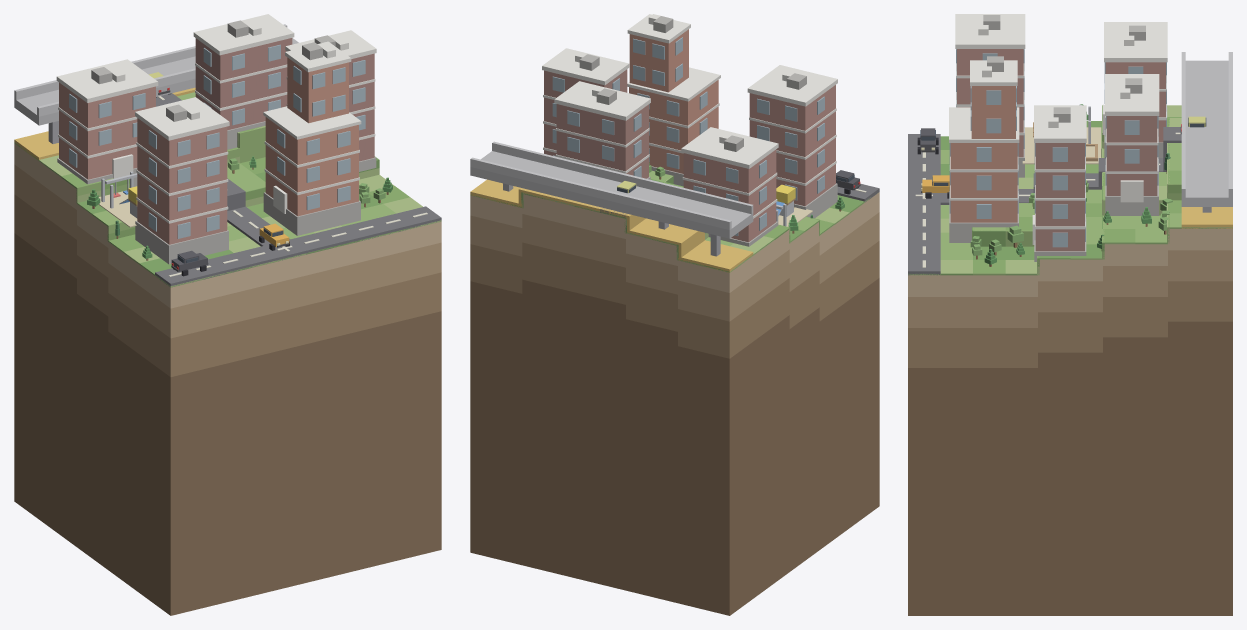
The model's file is block_6_base.glb.
3 renders of one model, left to right at view 1: azimuth 30°, elevation 25°; view 2: azimuth 150°, elevation 25°; view 3: azimuth 270°, elevation 25°, orthographic. The views are drawn at different scales.
Parts seen in each view (by area): view 1: Patch_UpperLeft_b01, Res_UL_04, Res_UL_01, Res_UL_00, Res_UL_02, Green_UpperLeft_j4_b01, Roads_UpperLeft_b01, Bridge_UpperLeft_b01, Res_UL_03, Playground_UpperLeft, Paver_UpperLeft_b01, ULCar_005; view 2: Patch_UpperLeft_b01, Bridge_UpperLeft_b01, Res_UL_01, Res_UL_04, Res_UL_02, Res_UL_00, Paver_UpperLeft_b01, Res_UL_03, Green_UpperLeft_j4_b01, Playground_UpperLeft; view 3: Patch_UpperLeft_b01, Res_UL_04, Green_UpperLeft_j4_b01, Res_UL_03, Res_UL_02, Bridge_UpperLeft_b01, Roads_UpperLeft_b01, Res_UL_01, Res_UL_00, Paver_UpperLeft_b01, Playground_UpperLeft, ULCar_022 (+1 smaller).
Part boxes in pixels (left/top/right/bottom): Patch_UpperLeft_b01: left=14, top=143, right=441, bottom=615; Res_UL_04: left=263, top=41, right=361, bottom=235; Res_UL_01: left=135, top=97, right=229, bottom=264; Res_UL_00: left=56, top=59, right=158, bottom=186; Res_UL_02: left=193, top=14, right=294, bottom=149; Green_UpperLeft_j4_b01: left=14, top=92, right=441, bottom=287; Roads_UpperLeft_b01: left=155, top=93, right=441, bottom=286; Bridge_UpperLeft_b01: left=14, top=24, right=298, bottom=143; Res_UL_03: left=285, top=30, right=376, bottom=171; Playground_UpperLeft: left=98, top=171, right=137, bottom=227; Paver_UpperLeft_b01: left=14, top=87, right=195, bottom=160; ULCar_005: left=171, top=250, right=208, bottom=276; Patch_UpperLeft_b01: left=470, top=192, right=879, bottom=615; Bridge_UpperLeft_b01: left=470, top=141, right=753, bottom=256; Res_UL_01: left=747, top=65, right=837, bottom=218; Res_UL_04: left=627, top=14, right=720, bottom=186; Res_UL_02: left=554, top=81, right=650, bottom=179; Res_UL_00: left=681, top=127, right=778, bottom=246; Paver_UpperLeft_b01: left=470, top=179, right=753, bottom=272; Res_UL_03: left=542, top=48, right=629, bottom=156; Green_UpperLeft_j4_b01: left=470, top=170, right=877, bottom=272; Playground_UpperLeft: left=776, top=184, right=812, bottom=226; Patch_UpperLeft_b01: left=908, top=228, right=1232, bottom=615; Res_UL_04: left=949, top=56, right=1019, bottom=242; Green_UpperLeft_j4_b01: left=908, top=105, right=1232, bottom=275; Res_UL_03: left=1032, top=105, right=1086, bottom=261; Res_UL_02: left=1105, top=74, right=1159, bottom=215; Bridge_UpperLeft_b01: left=1181, top=52, right=1232, bottom=212; Roads_UpperLeft_b01: left=908, top=127, right=1181, bottom=275; Res_UL_01: left=955, top=14, right=1025, bottom=177; Res_UL_00: left=1102, top=22, right=1167, bottom=157; Paver_UpperLeft_b01: left=1181, top=207, right=1232, bottom=228; Playground_UpperLeft: left=1022, top=104, right=1101, bottom=164; ULCar_022: left=921, top=175, right=949, bottom=198.
Size of the model in its own units: 9.5 by 16.54 by 9.5.
